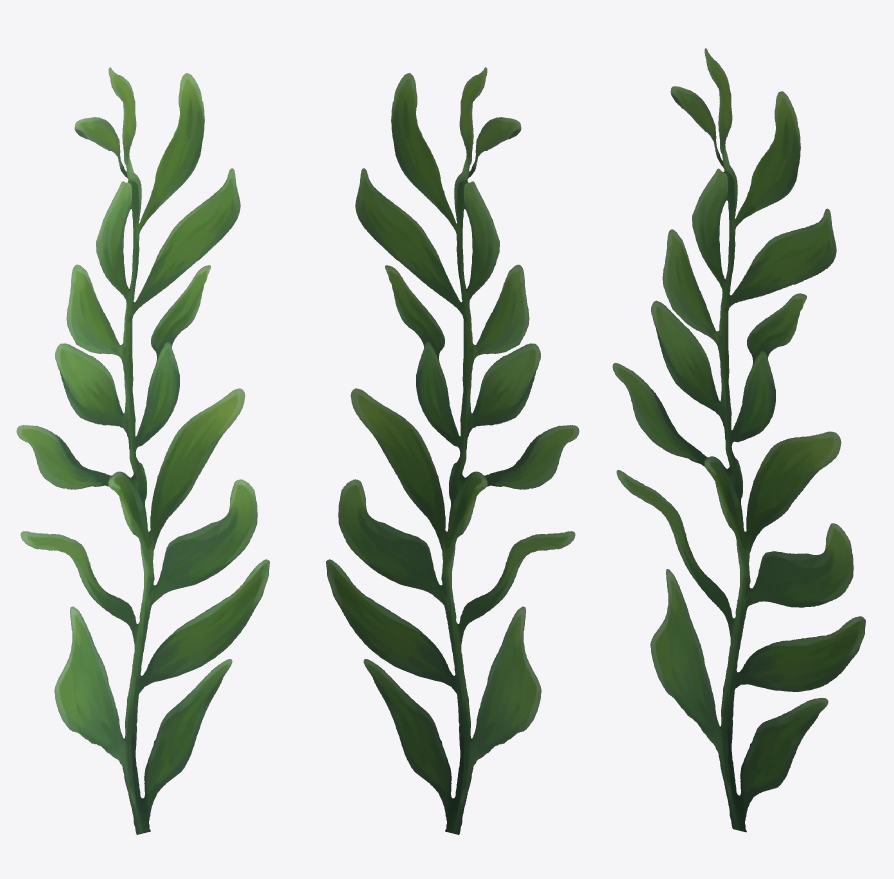
The model's file is SeaWeed.fbx.
3 renders of one model, left to right at view 1: azimuth 30°, elevation 25°; view 2: azimuth 150°, elevation 25°; view 3: azimuth 330°, elevation 25°, orthographic.
Visible parts, largest first — view 1: SeaWeed; view 2: SeaWeed; view 3: SeaWeed.
Part boxes in pixels (box(x1,y1,x2,y2)): SeaWeed: box(16, 67, 269, 834); SeaWeed: box(326, 67, 579, 834); SeaWeed: box(612, 48, 865, 832).
Bounding box in the file's own units: 1 × 2.78 × 1.14e-15.
Materials: 1 (1 with a texture image).
